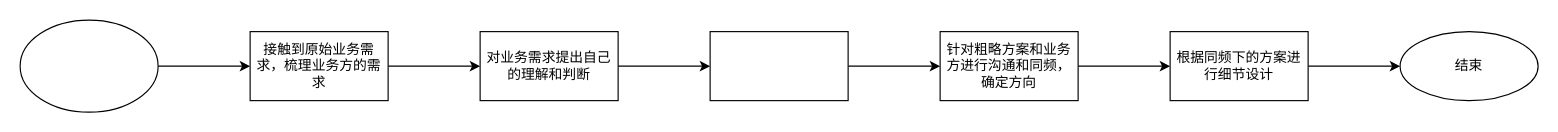
This 1558x132 diagram has some shape labels left out. The shapes that lost their labels are listed below. From the top down, each one's box as (x1, y1, x2, y2) in pixels, then its label:
(19, 19, 158, 112): 开始
(709, 30, 848, 101): 根据自己的判断提出对应的解决方案
